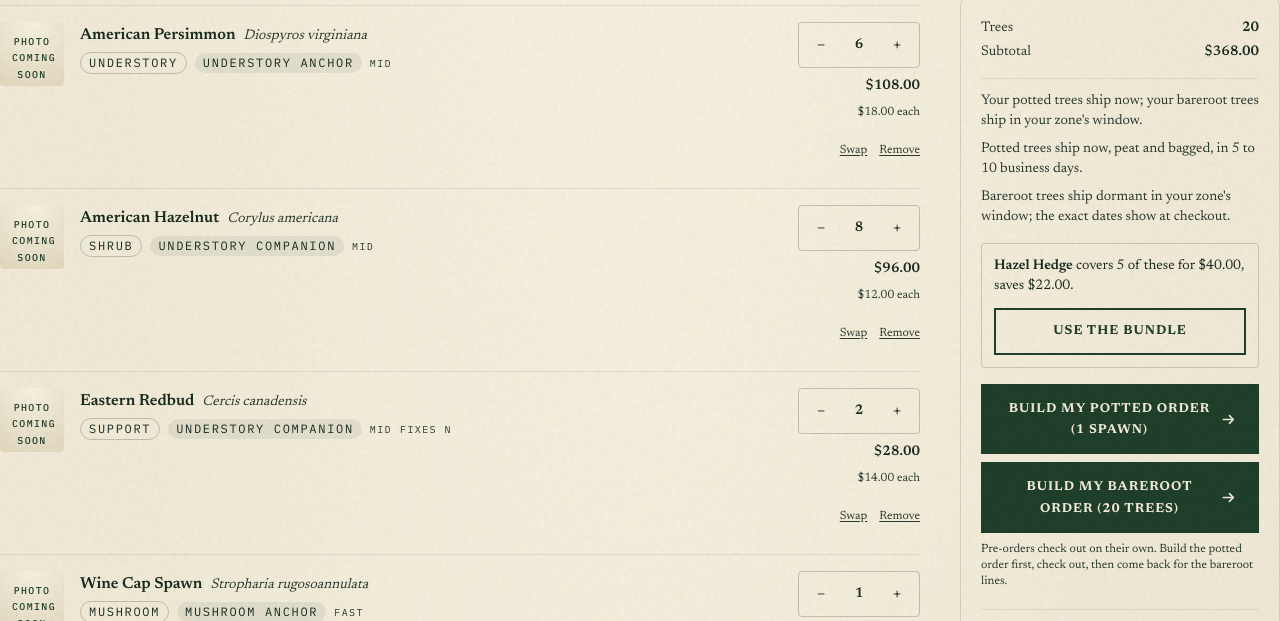
Scenario: ResultCard: winter beta (planner-winter-beta spec §C.1, §C.2, §C.3) › Remove posts one removed signal; Swap takes the next candidate and posts one swapped signal
The image size is (1280, 621).
(page scrolled)
Step 1. Click the button with aria-label "Remove American Hazelnut" → click(900, 333), box [879, 311, 920, 355]
(page scrolled)
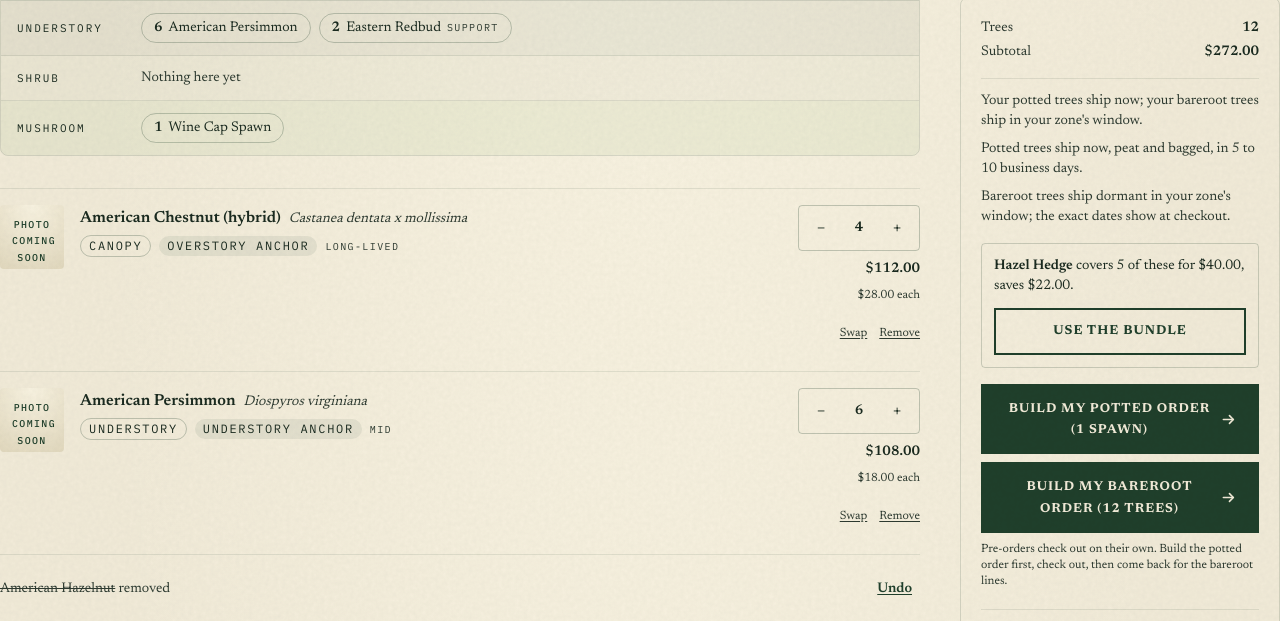
Expected: the list item "American Hazelnut" shows "removed", [115, 582, 170, 596]
Expected: the button "Undo" is shown, [869, 567, 920, 611]
Step 2. Click the button with aria-label "Swap American Chestnut (hybrid)" → click(853, 333), box [840, 311, 867, 355]
(page scrolled)
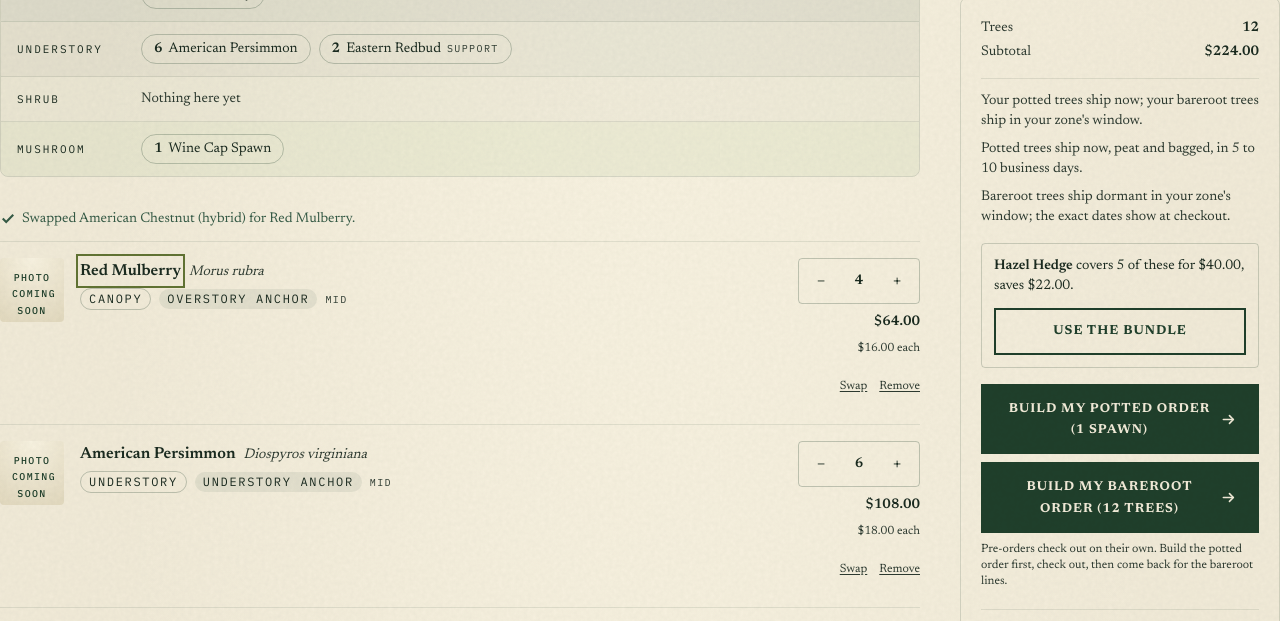
Expected: the link "Red Mulberry" is shown, [80, 258, 181, 284]
Expected: the message with test id "plan-notice" shows "Swapped American Chestnut (hybrid) for Red Mulberry", [22, 212, 355, 226]
# Swapping again moves on to the hickory, then runs out with a plain message.
Step 3. Click the button with aria-label "Swap Red Mulberry" → click(853, 386), box [840, 364, 867, 408]
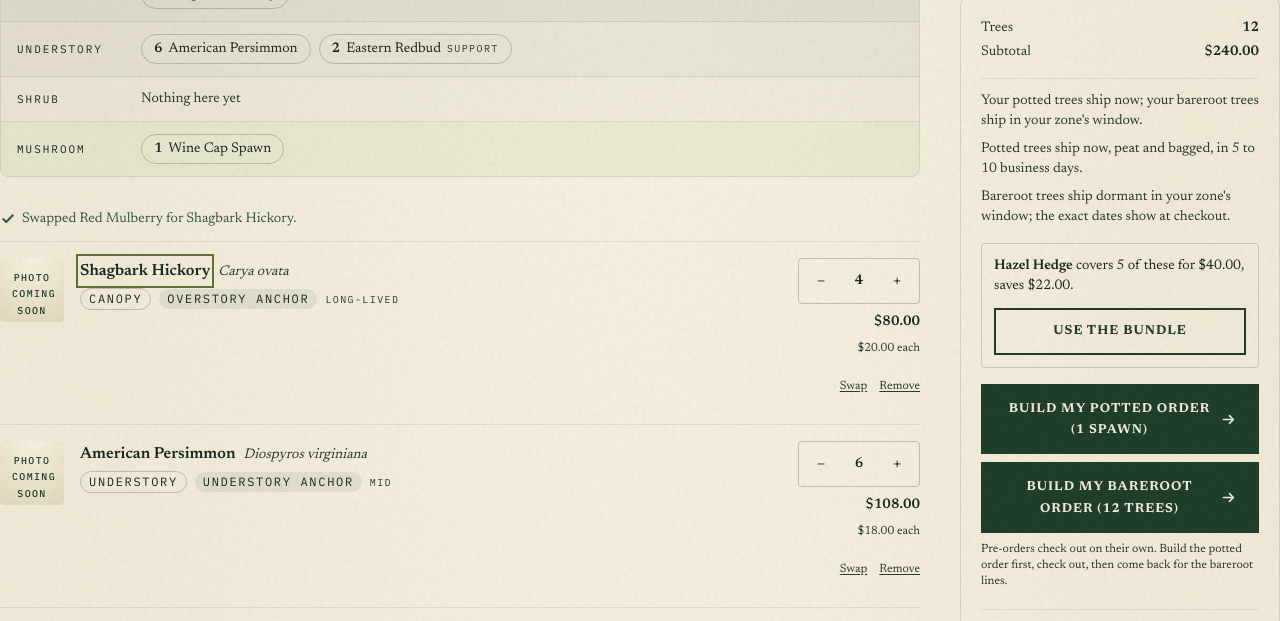
Expected: the link "Shagbark Hickory" is shown, [80, 258, 210, 284]
Step 4. Click the button with aria-label "Swap Shagbark Hickory" → click(853, 386), box [840, 364, 867, 408]
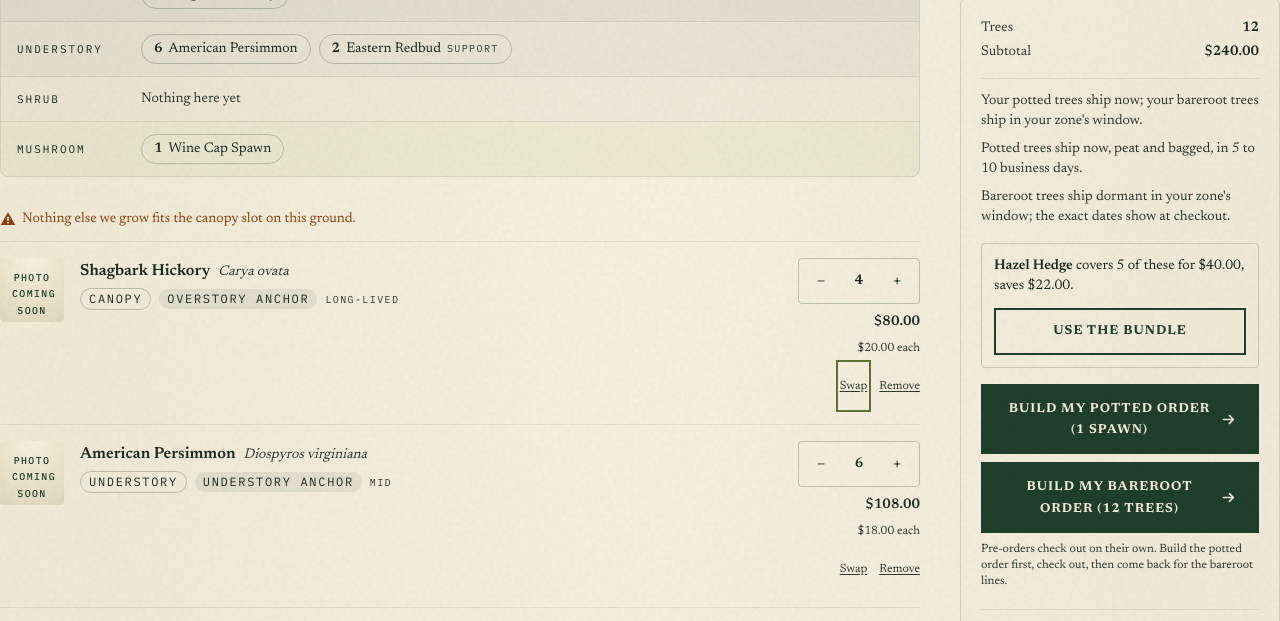
Expected: the message with test id "plan-notice" shows "Nothing else we grow fits the canopy slot", [22, 212, 356, 226]
